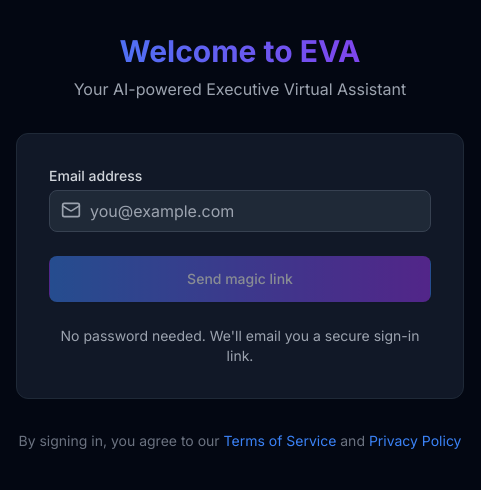
Test: LoginPage › shows success message after sending magic link
In the field labelled "Email address": (240, 211) [49,190,431,232], type "test@example.com"
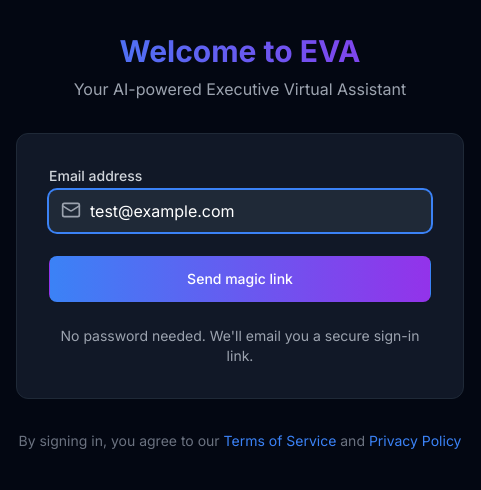
Click the button "Send magic link": (240, 279) [49,256,431,302]
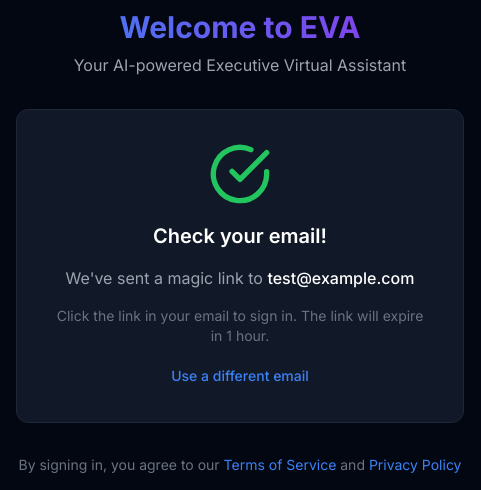
Result: the heading "Check your email!" is shown at [153,224,327,248]
Result: the text "We've sent a magic link to test@example.com" is shown at [49,266,431,290]
Result: the text "test@example.com" is shown at [267,268,414,288]
